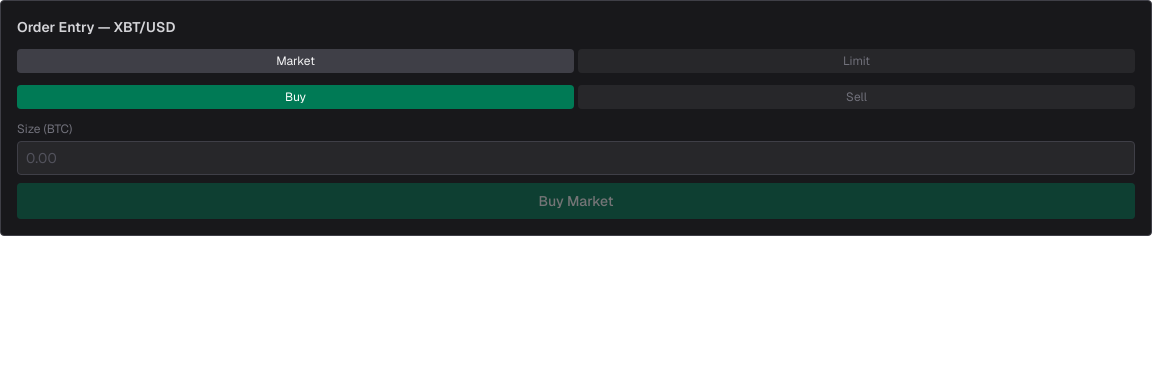
Test: OrderEntry › form reset after submit › clears the size field after a successful market order submit
This screenshot has width=1152, height=387.
Type "1" into the number field labelled "Size (BTC)". click: [576, 158]
box: [17,141,1135,175]
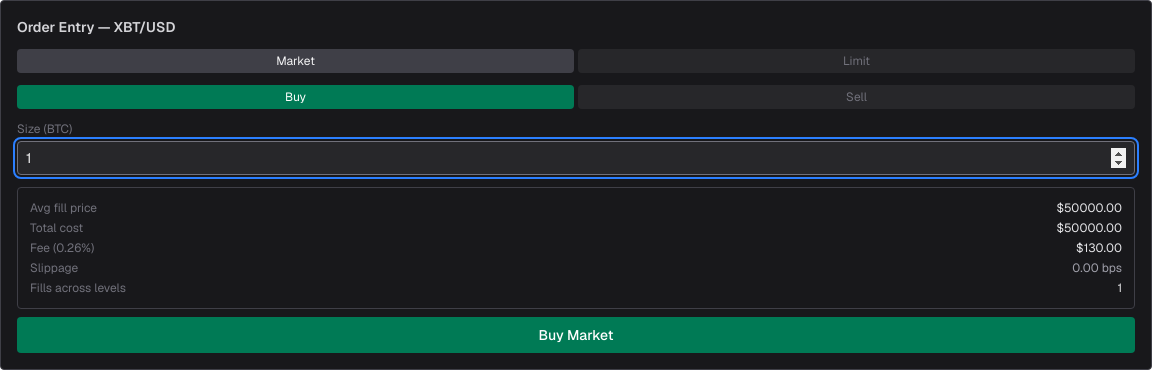
Click the button "Buy Market". click: [576, 335]
box: [17,317,1135,353]
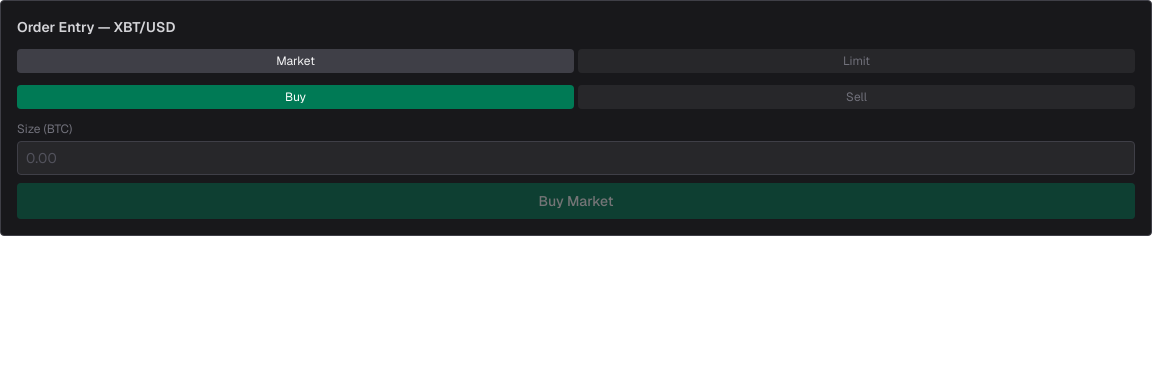
Result: the number field labelled "Size (BTC)" is not empty at [17,141,1135,175]
